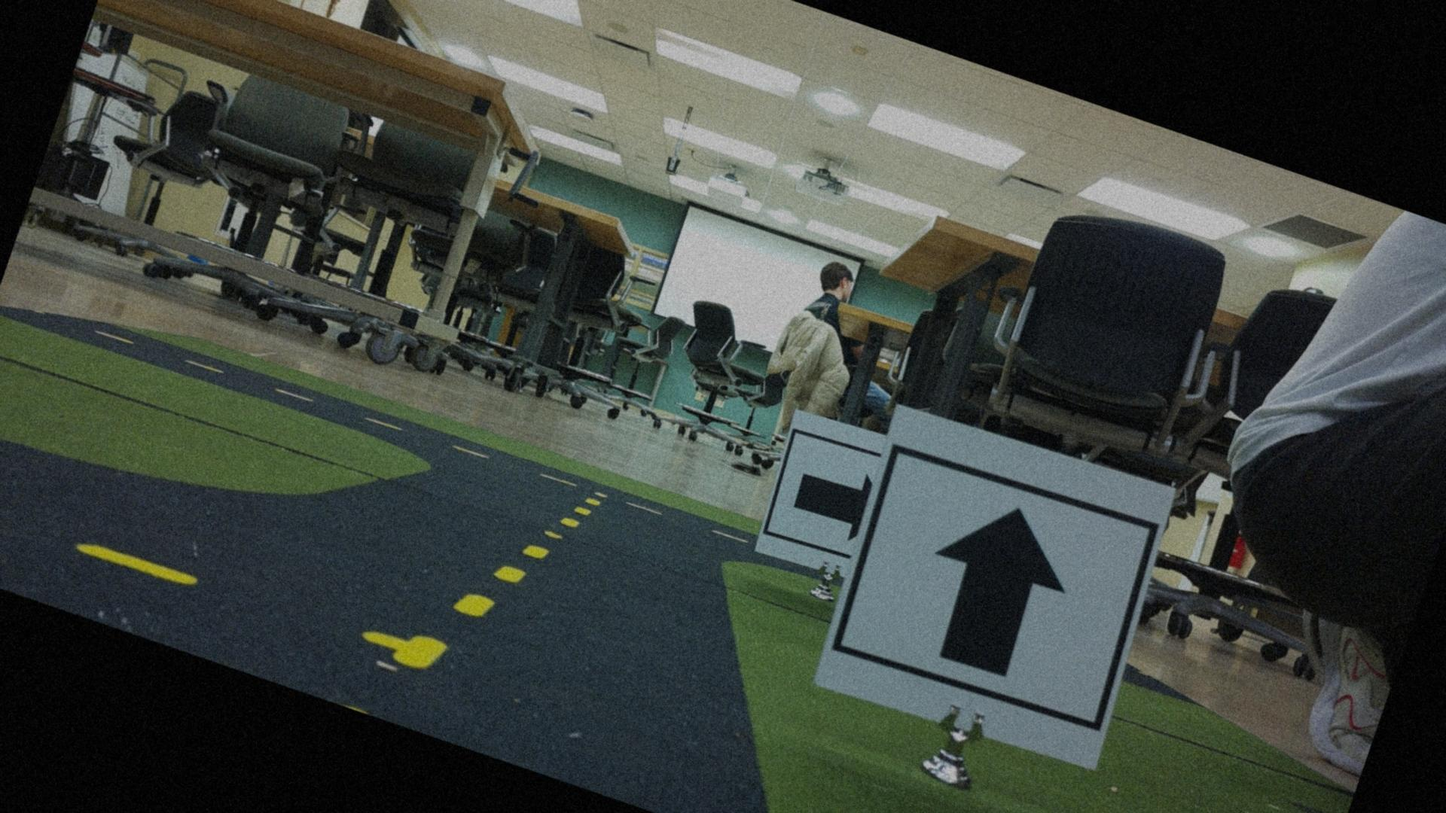gostraight: (807, 401, 1171, 778)
yellowline: (396, 446, 602, 709)
